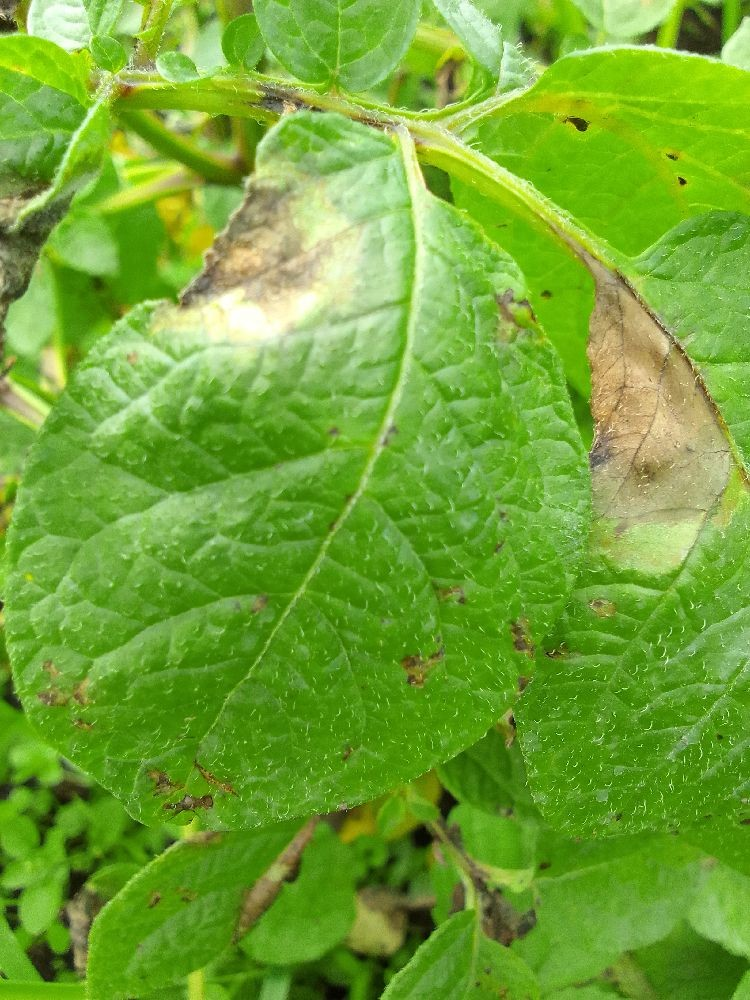late_blight: (565, 237, 741, 526), (162, 171, 349, 330), (0, 164, 83, 323), (671, 2, 727, 60)
